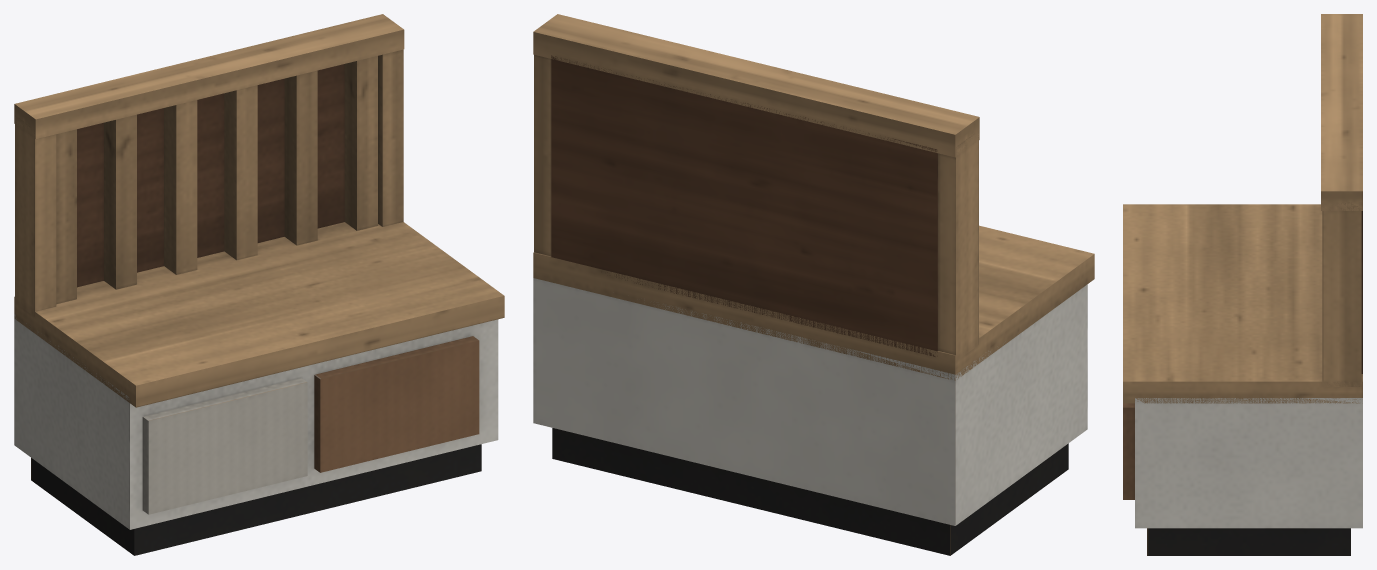
File: H_HallBench_3.fbx
The picture shows the model from 3 angles, left to right: view 1: azimuth 30°, elevation 25°; view 2: azimuth 150°, elevation 25°; view 3: azimuth 270°, elevation 25°; orthographic projection. The views are drawn at different scales.
Parts seen in each view (by area): view 1: H_HallBench_3; view 2: H_HallBench_3; view 3: H_HallBench_3.
Boxes of the visible parts, box(x1,y1,x2,y2) form: H_HallBench_3: box(14, 14, 504, 555); H_HallBench_3: box(533, 14, 1094, 555); H_HallBench_3: box(1123, 14, 1362, 555).
Bounding box in the file's own units: 350 × 340 × 200.
Materials: 1 (1 with a texture image).
